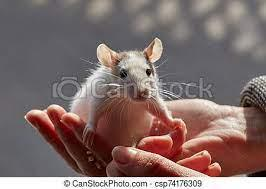rat: (71, 38, 185, 150)
